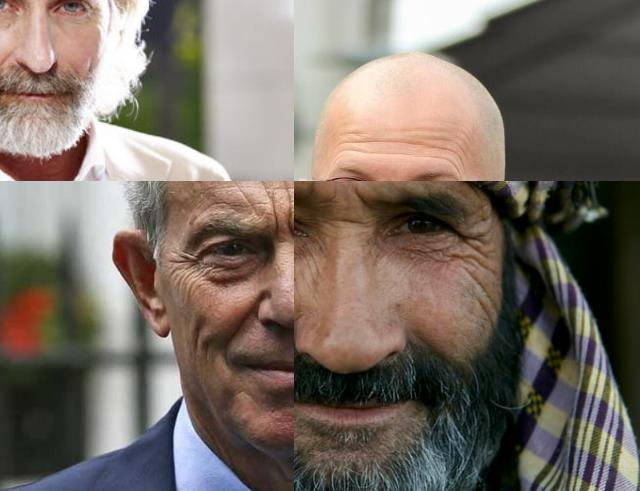crows_feet: (458, 228, 489, 262), (170, 251, 198, 287)
forehead: (239, 181, 294, 200), (422, 130, 450, 166), (335, 128, 361, 160), (455, 136, 469, 178), (197, 194, 233, 210), (371, 135, 412, 149)
frown_line: (267, 197, 294, 242), (348, 184, 368, 214)
gummy_smile: (228, 295, 258, 341), (0, 45, 11, 70)
masseter: (187, 314, 213, 366), (471, 276, 497, 324)
